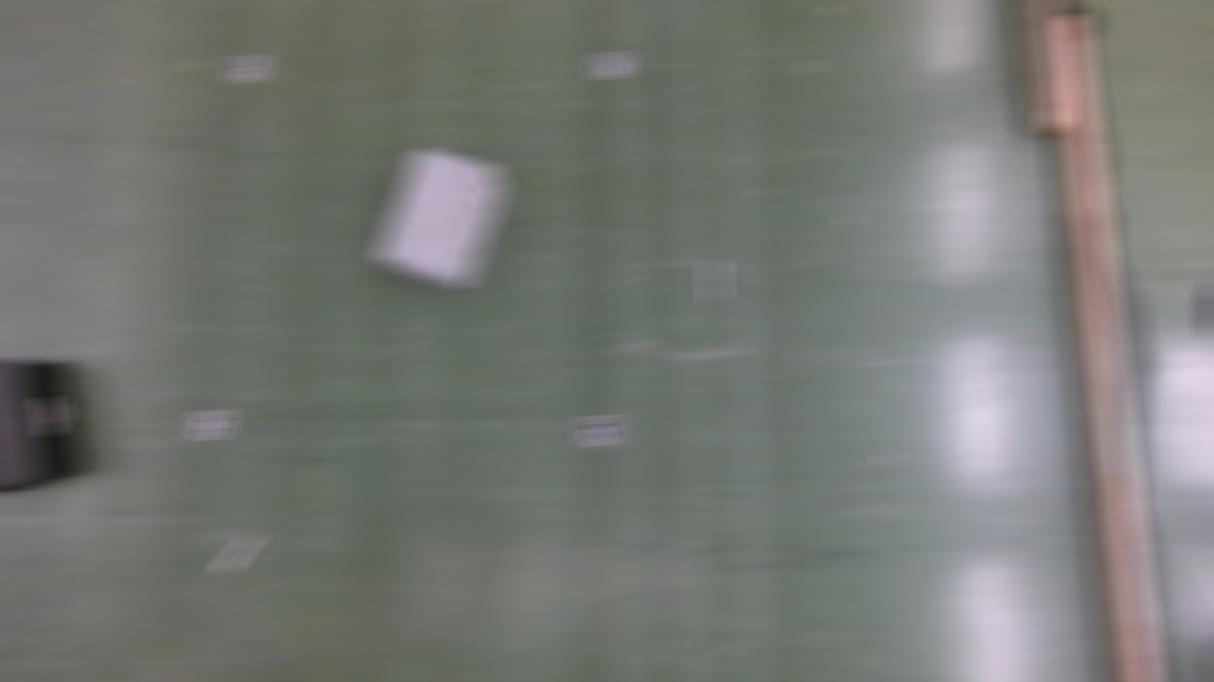probes: (218, 536, 258, 574), (704, 262, 724, 305)
rako: (374, 148, 507, 292), (0, 358, 85, 495)
